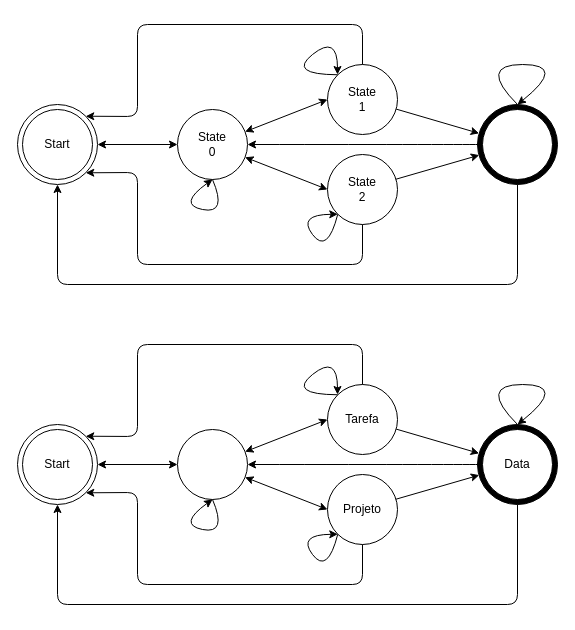
Image size: 575x630. Some labels were removed from this diagram. The box of each missing label's shape, as (x1, y1, x2, y2) in pixels:
Atividade: (176, 428, 248, 500)
End: (482, 108, 552, 180)
